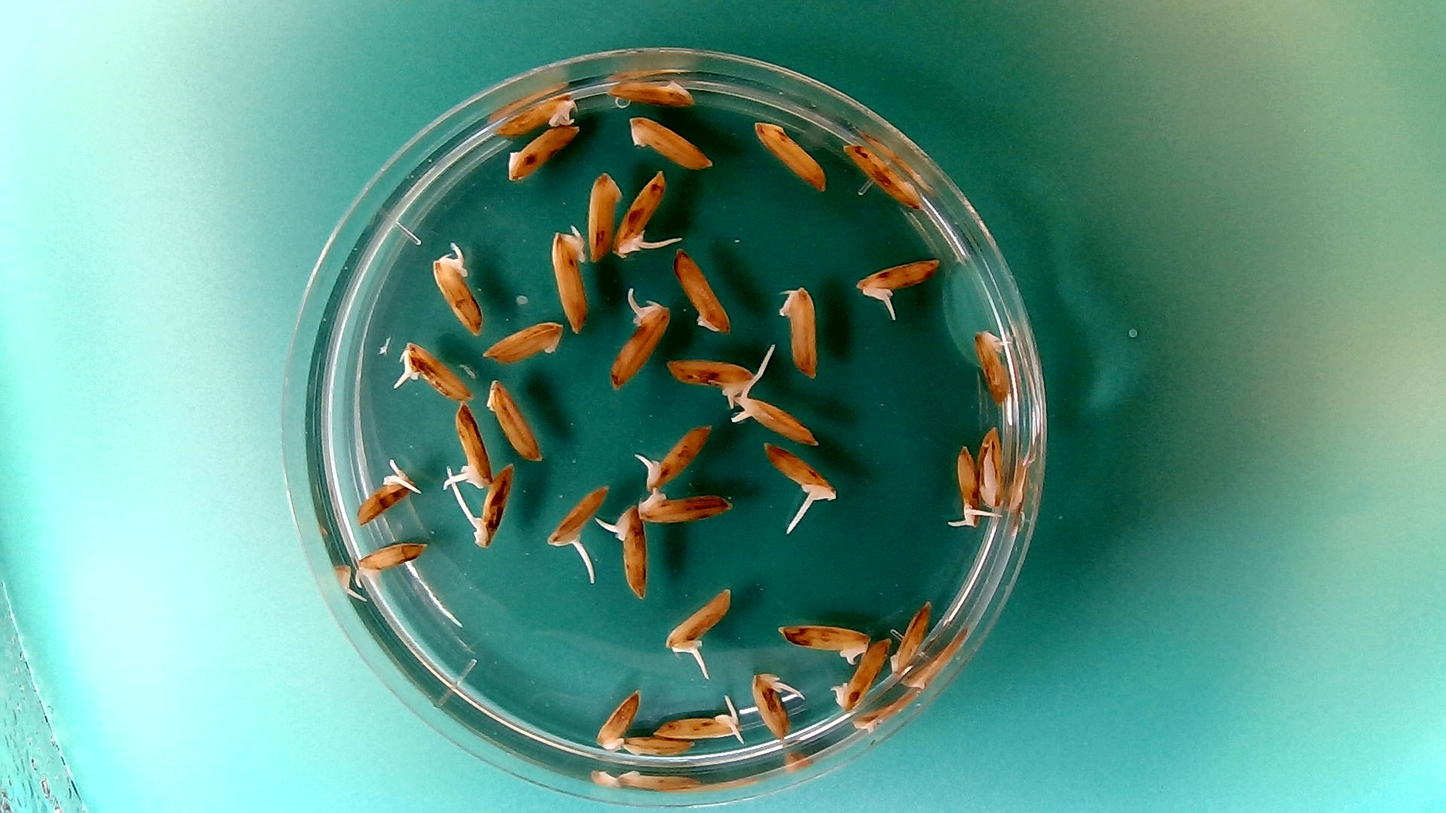no: (842, 137, 926, 213), (751, 116, 830, 193), (672, 245, 734, 336), (621, 110, 715, 170), (502, 119, 584, 181), (487, 374, 545, 461), (776, 280, 822, 380), (479, 316, 565, 364), (887, 595, 934, 675), (971, 324, 1014, 410), (602, 72, 698, 110), (584, 169, 622, 264), (591, 685, 642, 754), (978, 422, 1009, 522), (617, 732, 697, 763)
yes: (604, 289, 673, 391), (727, 381, 820, 447), (658, 584, 733, 660), (634, 419, 715, 489), (612, 164, 670, 257), (430, 242, 486, 337), (600, 502, 652, 604), (397, 337, 476, 403), (759, 437, 839, 502), (828, 635, 892, 714), (545, 480, 611, 552), (853, 252, 944, 304), (548, 224, 590, 335), (776, 619, 874, 664), (664, 358, 766, 401), (352, 537, 430, 592), (489, 91, 578, 139), (649, 702, 745, 744), (633, 486, 732, 526), (472, 461, 516, 550), (450, 400, 493, 489), (353, 466, 414, 528), (748, 667, 795, 741), (947, 439, 982, 530)
